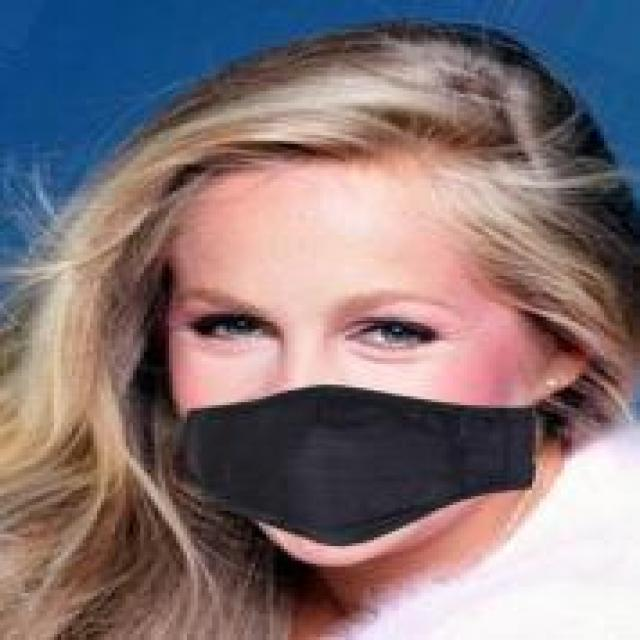mask: (97, 68, 622, 564)
